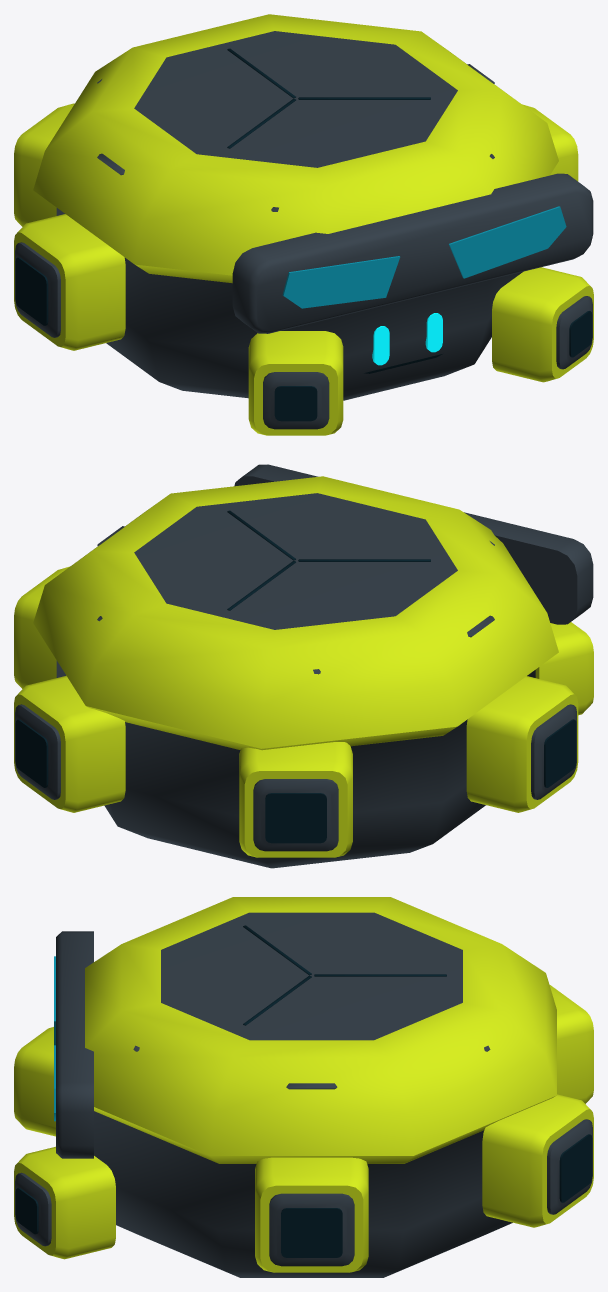
The model's file is copilot_linter_v01.glb.
3 views of the same model, one above another, from view 1: azimuth 30°, elevation 25°; view 2: azimuth 150°, elevation 25°; view 3: azimuth 270°, elevation 25° (orthographic).
Visible parts, largest first — view 1: linter_agent_model; view 2: linter_agent_model; view 3: linter_agent_model.
Boxes of the visible parts, box(x1,y1,x2,y2) form: linter_agent_model: box(14, 14, 593, 435); linter_agent_model: box(14, 464, 593, 868); linter_agent_model: box(14, 897, 593, 1277).
Size of the model in its own units: 2.58 by 1.08 by 2.45.
2 materials, 2 textured.
